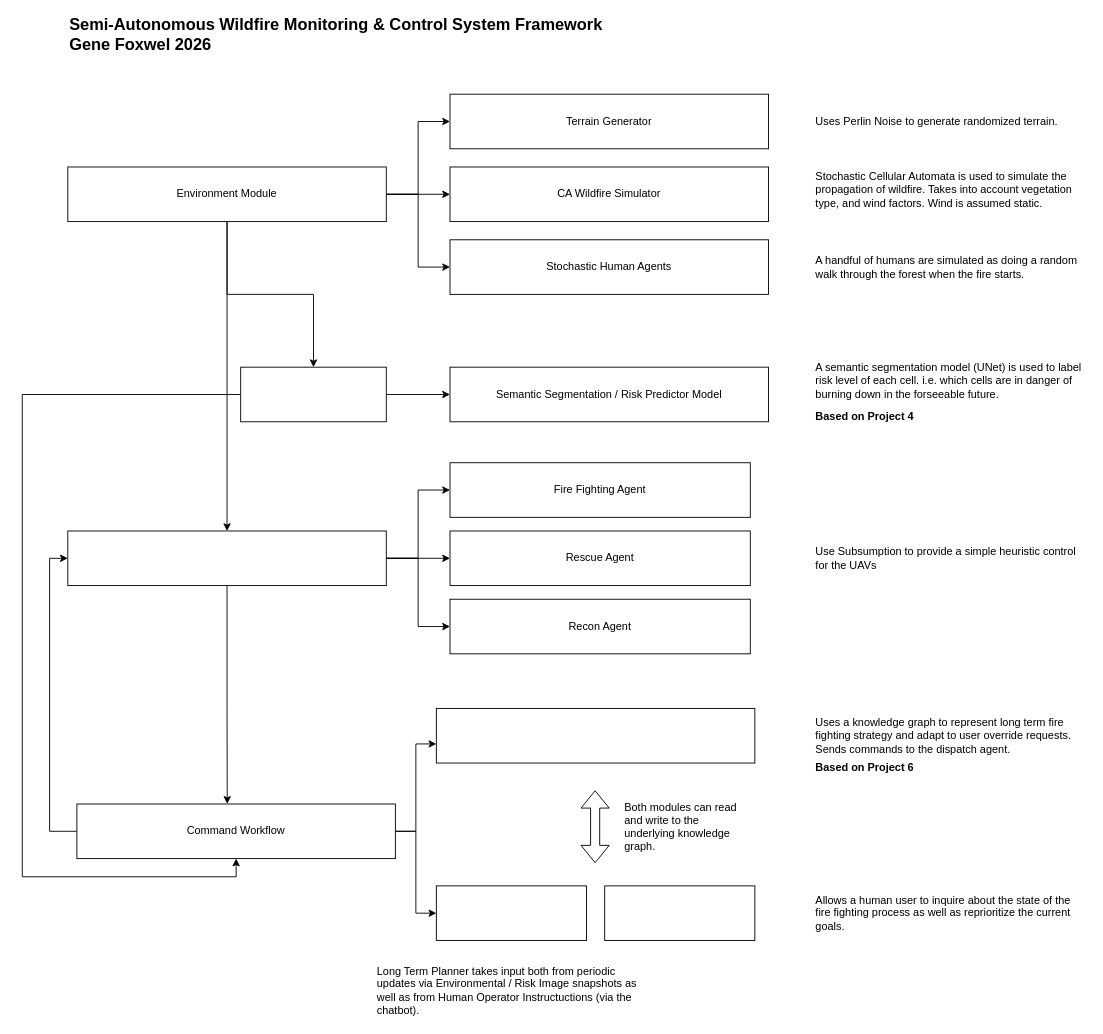
This 1103x1034 diagram has some shape labels left out. The shapes that lost their labels are listed below. From the top down, each one's box as (x1, y1, x2, y2) in pixels, then its label:
(240, 366, 386, 422): Risk Prediction Module
(67, 530, 386, 586): UAVs
(435, 708, 755, 763): Adaptive Knowledge Graph Memory System
(435, 885, 586, 940): Long Term Planner
(604, 885, 755, 940): Chatbot
